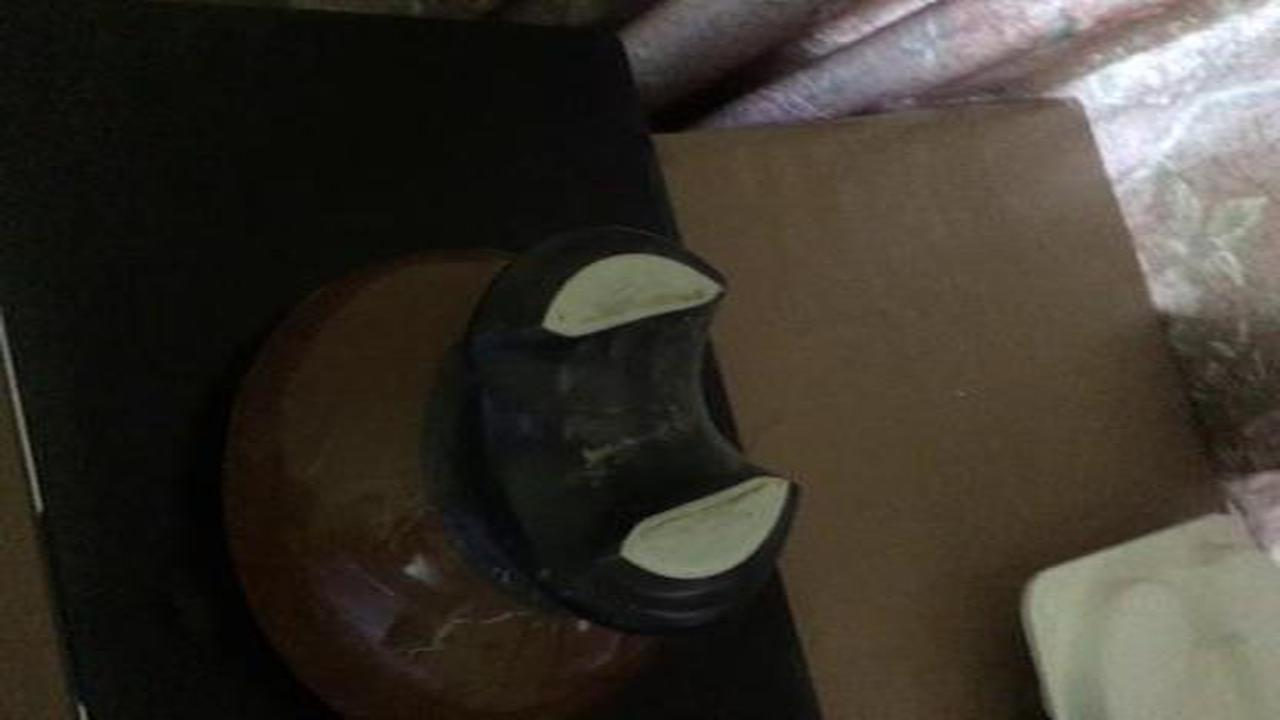insulator_pin: (188, 208, 825, 720)
